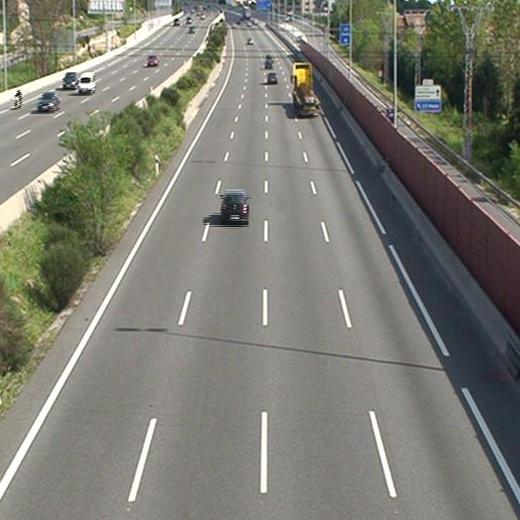car: (220, 190, 251, 223), (266, 71, 279, 84)
truck: (290, 62, 321, 116)
